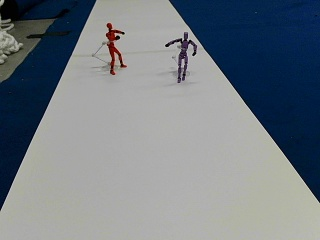pedestrian: (165, 32, 196, 80), (104, 21, 126, 73)
